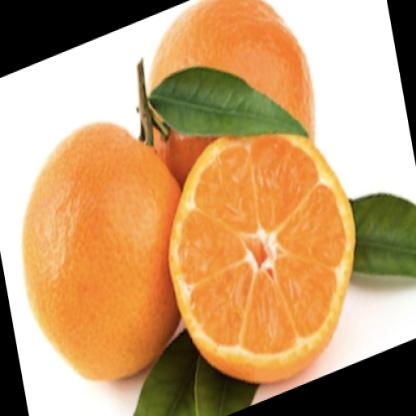fresh: (25, 1, 361, 413)
